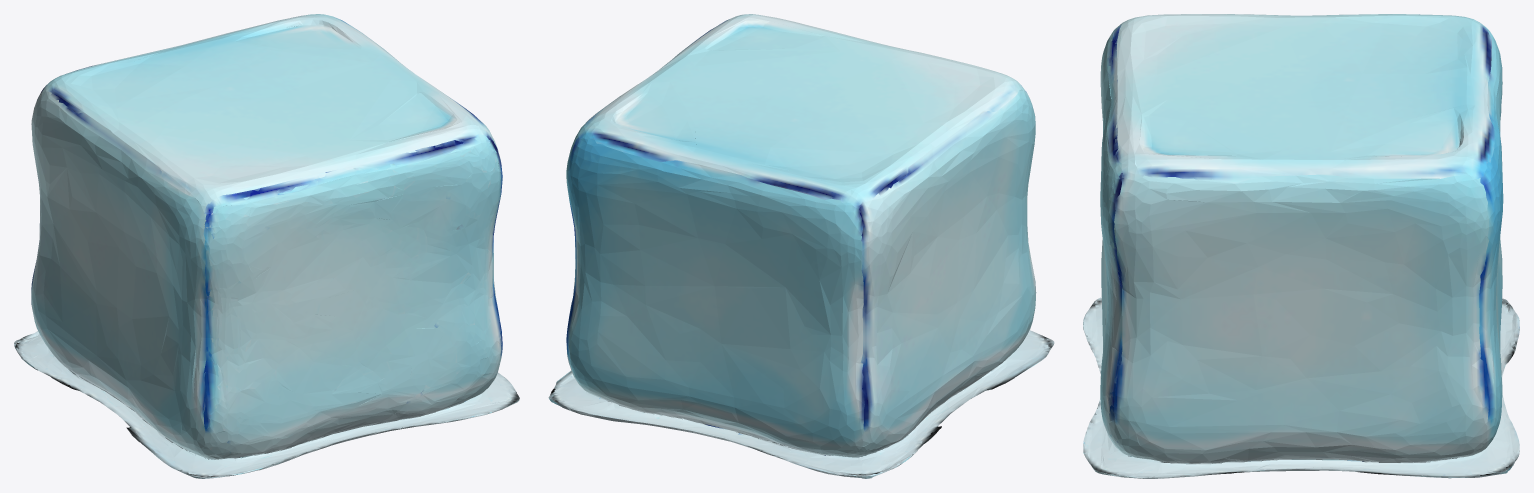
The model's file is ice.glb.
3 views of the same model, side by side, from view 1: azimuth 30°, elevation 25°; view 2: azimuth 150°, elevation 25°; view 3: azimuth 270°, elevation 25° (orthographic). The views are drawn at different scales.
Parts seen in each view (by area): view 1: world; view 2: world; view 3: world.
Part boxes in pixels (x1=…): world: x1=14, y1=14, x2=519, y2=478; world: x1=548, y1=14, x2=1054, y2=478; world: x1=1083, y1=14, x2=1519, y2=478.
Bounding box in the file's own units: 0.9999 × 0.7646 × 0.9995.
1 material, 1 textured.
